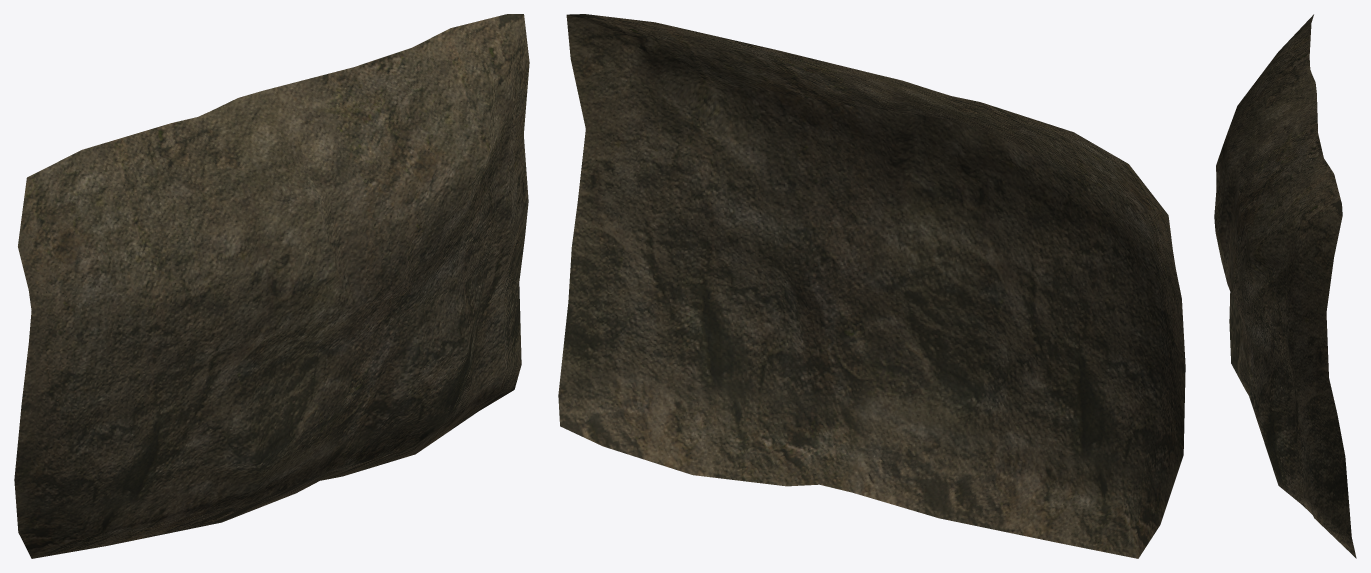
Rendered from LCRG_RockClif_01.fbx.
3 views of the same model, side by side, from view 1: azimuth 30°, elevation 25°; view 2: azimuth 150°, elevation 25°; view 3: azimuth 270°, elevation 25° (orthographic). The views are drawn at different scales.
Parts seen in each view (by area): view 1: LCRG_RockClif_01; view 2: LCRG_RockClif_01; view 3: LCRG_RockClif_01.
Boxes of the visible parts, left/top/right/bottom form: LCRG_RockClif_01: left=14, top=14, right=529, bottom=558; LCRG_RockClif_01: left=558, top=14, right=1185, bottom=558; LCRG_RockClif_01: left=1214, top=14, right=1356, bottom=558.
Bounding box in the file's own units: 9.7 × 7.11 × 2.42.
